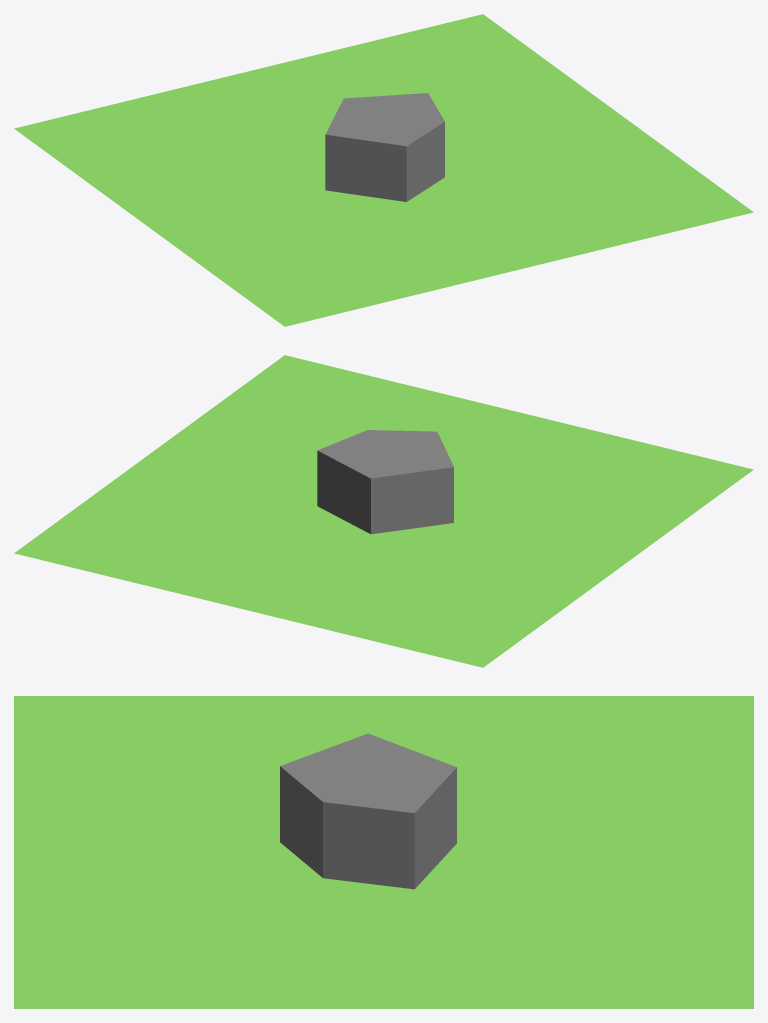
File: muti_material_mesh.glb
The picture shows the model from 3 angles, top to bottom: view 1: azimuth 30°, elevation 25°; view 2: azimuth 150°, elevation 25°; view 3: azimuth 270°, elevation 25°; orthographic projection. The views are drawn at different scales.
Visible parts, largest first — view 1: Plane; view 2: Plane; view 3: Plane.
Part boxes in pixels (<box>): Plane: <box>14,14,753,326</box>; Plane: <box>14,355,753,667</box>; Plane: <box>14,696,753,1008</box>.
Bounding box in the file's own units: 11.68 × 1.84 × 11.68.
